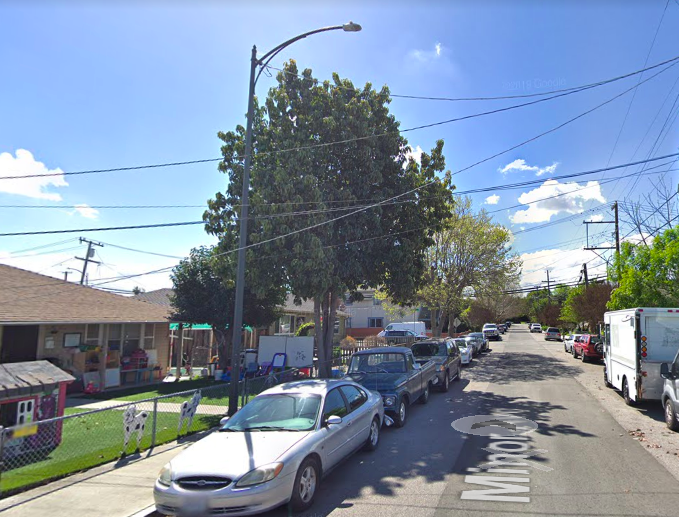tree: (203, 56, 458, 381)
